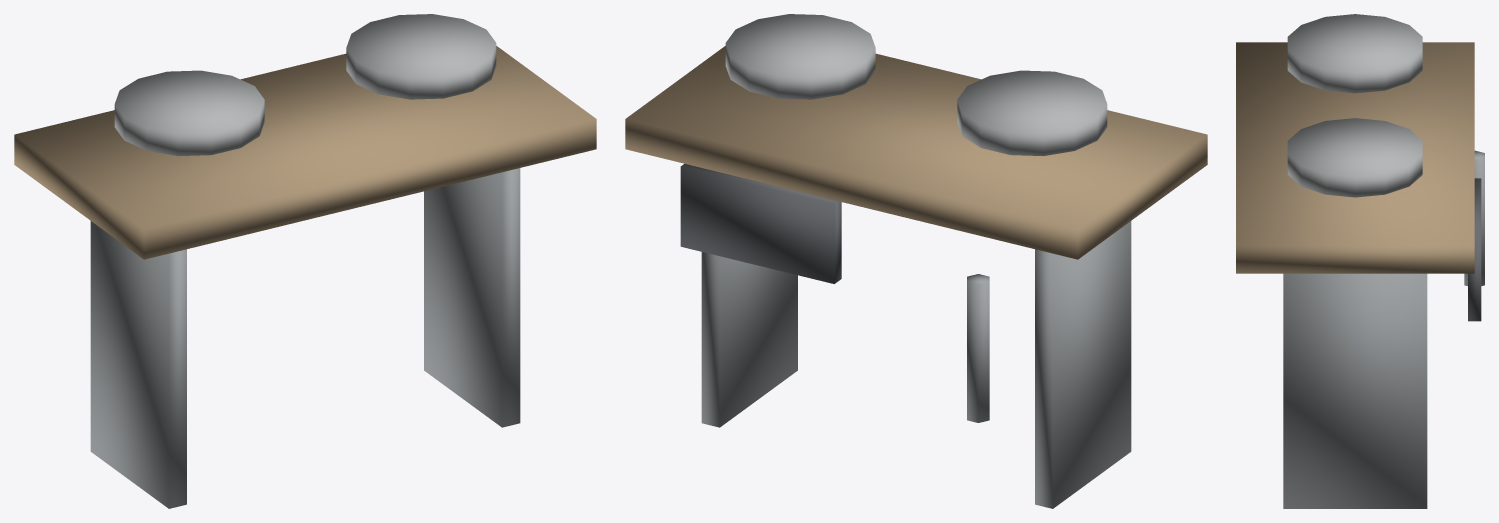
Rendered from projection_rewind_bench__service.glb.
3 views of the same model, side by side, from view 1: azimuth 30°, elevation 25°; view 2: azimuth 150°, elevation 25°; view 3: azimuth 270°, elevation 25° (orthographic). The views are drawn at different scales.
Visible parts, largest first — view 1: world; view 2: world; view 3: world.
Part boxes in pixels (x1=…): world: x1=14, y1=14, x2=596, y2=508; world: x1=625, y1=14, x2=1207, y2=508; world: x1=1236, y1=14, x2=1484, y2=508.
Size of the model in its own units: 1.25 by 0.96 by 0.6471.
